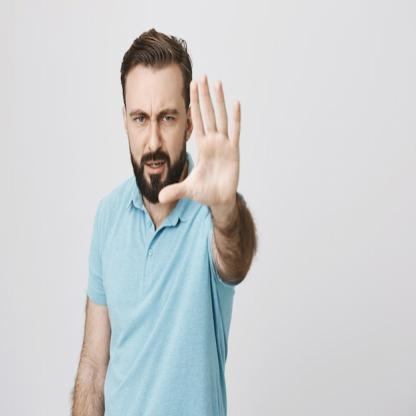stop: (156, 68, 244, 210)
